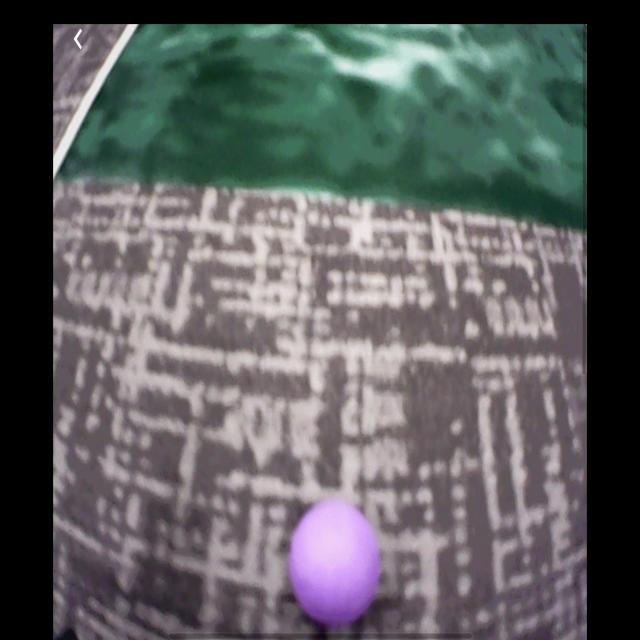ball: (291, 499, 382, 627)
